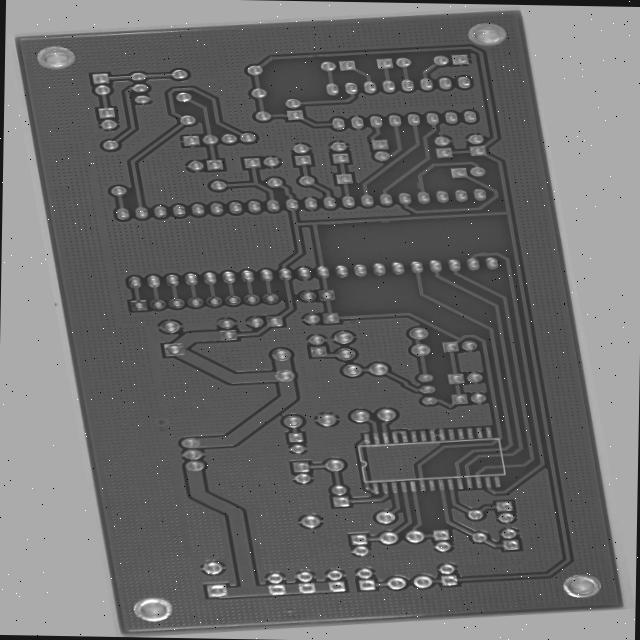spur: (466, 179, 482, 192), (413, 217, 433, 225)
